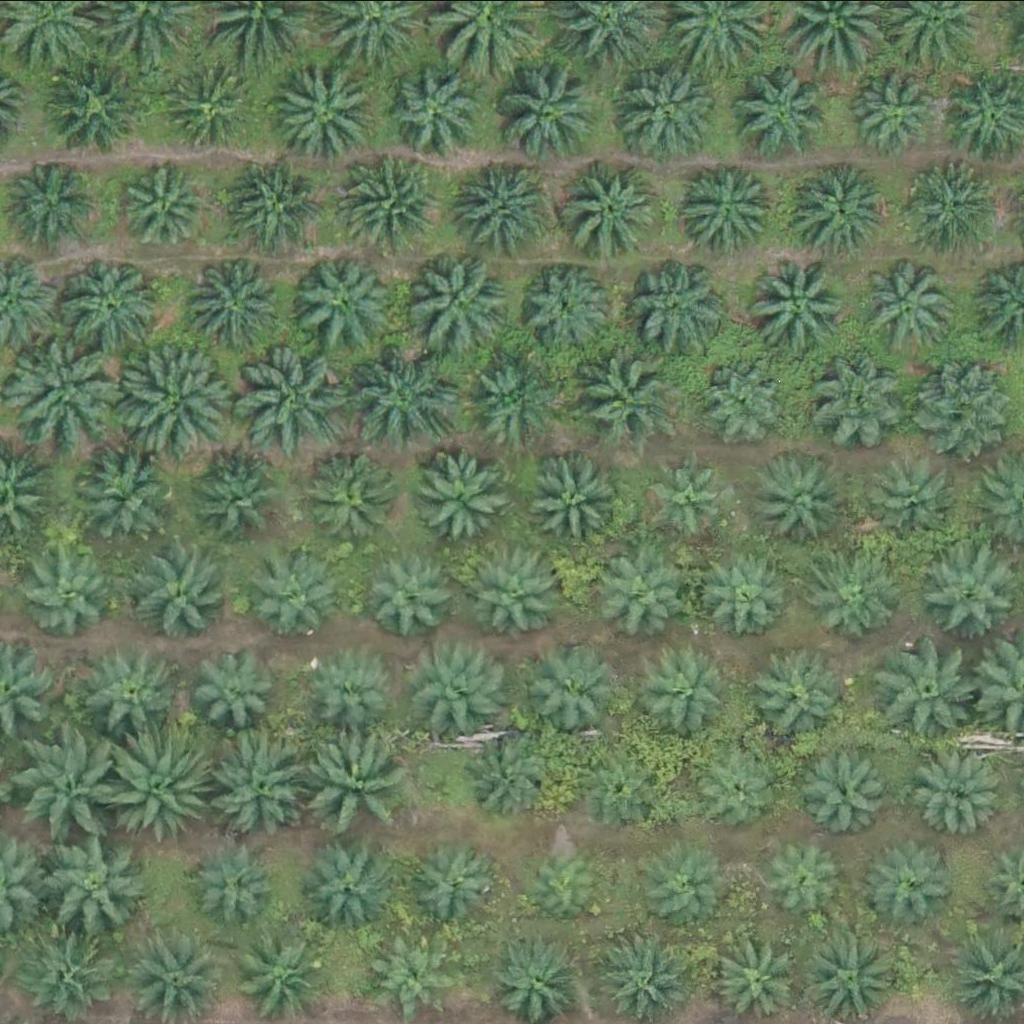Kelapa_Sawit: (120, 345, 233, 458), (4, 332, 117, 445), (13, 727, 126, 840), (347, 345, 460, 457), (236, 339, 349, 451), (72, 445, 185, 557), (106, 731, 219, 843), (311, 728, 412, 828), (459, 721, 560, 821), (755, 648, 856, 748), (880, 633, 981, 733), (592, 543, 693, 643), (526, 448, 627, 548), (407, 446, 508, 546), (298, 450, 399, 550), (459, 351, 560, 451), (570, 348, 671, 448), (808, 349, 909, 449), (912, 351, 1013, 451), (293, 254, 394, 354), (747, 248, 848, 348), (862, 255, 963, 355), (790, 158, 891, 258), (561, 156, 662, 256), (337, 155, 438, 255), (388, 58, 489, 158), (498, 60, 599, 160), (734, 65, 835, 165), (225, 153, 326, 253), (58, 254, 159, 354), (184, 256, 285, 356), (132, 544, 233, 644), (21, 538, 122, 638), (82, 641, 183, 741), (302, 838, 402, 938), (406, 831, 506, 931), (413, 638, 513, 738), (918, 542, 1018, 642), (412, 249, 512, 349), (629, 258, 729, 358), (901, 150, 1001, 250), (677, 155, 777, 255), (448, 148, 548, 248), (279, 64, 379, 164), (616, 61, 716, 161), (45, 52, 145, 152), (214, 737, 314, 837), (51, 827, 151, 927), (18, 921, 118, 1021), (498, 934, 587, 1022), (241, 931, 329, 1019), (368, 931, 456, 1019), (604, 934, 692, 1022), (583, 738, 671, 826), (310, 648, 398, 736), (531, 647, 619, 735), (643, 651, 731, 739), (368, 550, 456, 638), (475, 550, 563, 638), (708, 553, 796, 641), (752, 451, 840, 539), (702, 356, 790, 444), (164, 65, 252, 153), (126, 163, 214, 251), (193, 455, 281, 543), (194, 844, 282, 932), (645, 458, 734, 545), (718, 932, 806, 1019), (864, 837, 952, 924), (760, 830, 848, 917), (637, 842, 725, 929), (700, 743, 788, 830), (809, 744, 897, 831), (917, 747, 1005, 834), (815, 555, 903, 642), (873, 457, 961, 544), (523, 262, 611, 349), (848, 68, 936, 155), (257, 558, 345, 645), (189, 647, 277, 734), (531, 844, 607, 919)
